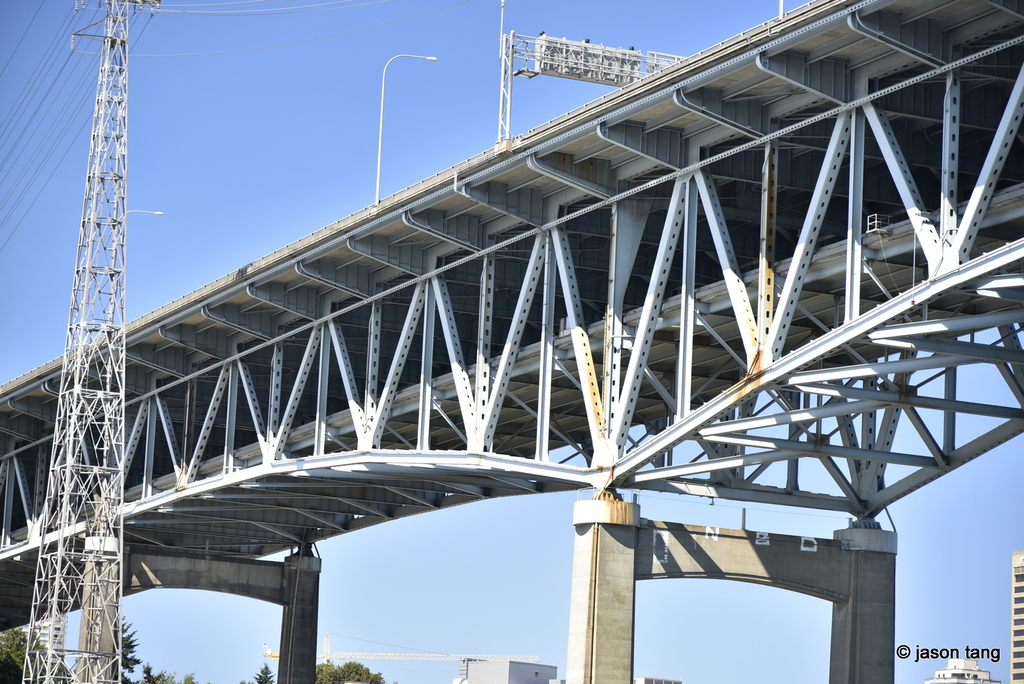Tree: (0, 613, 399, 683)
